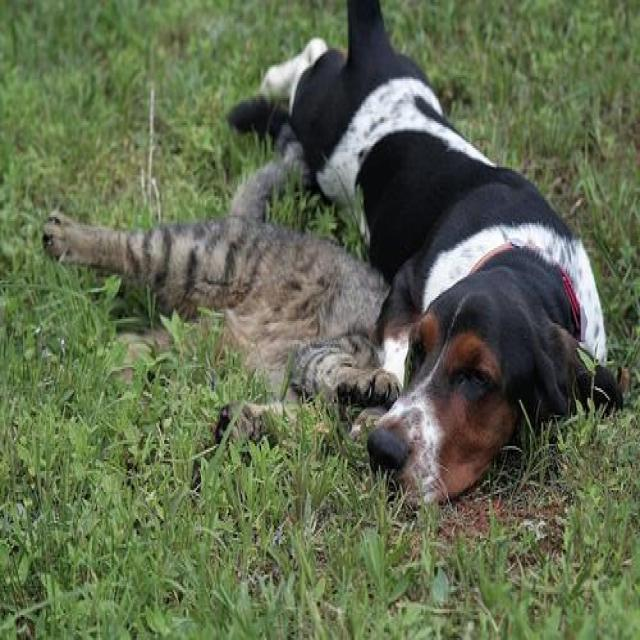basset: (252, 0, 627, 511)
